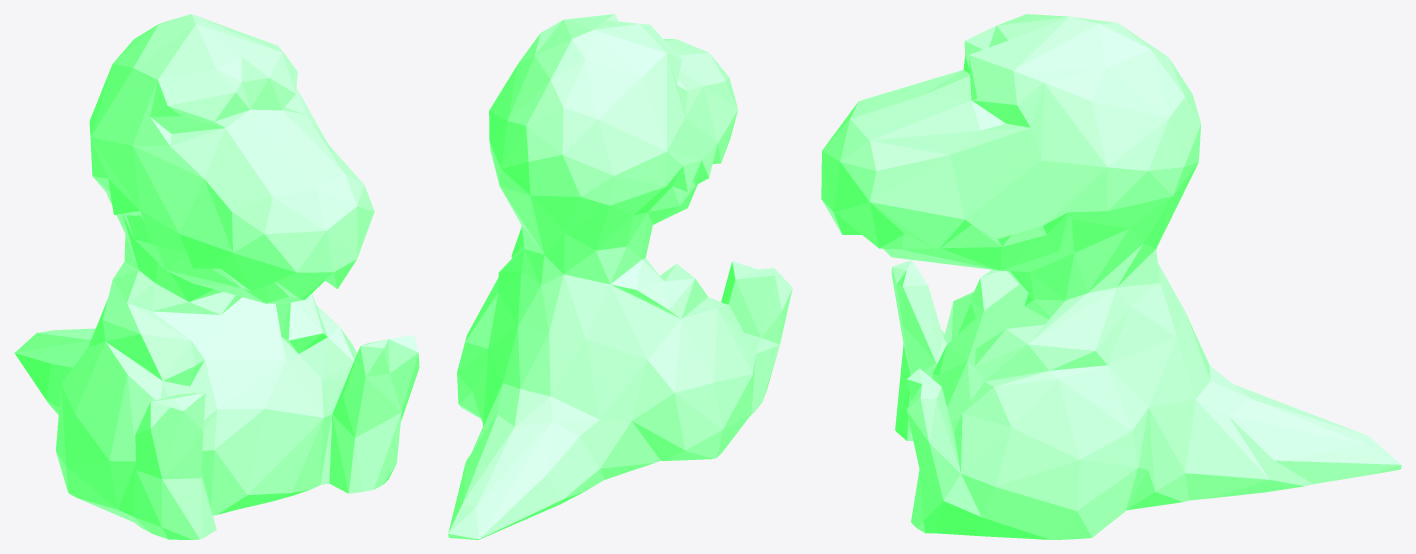
The model's file is dino.glb.
3 views of the same model, side by side, from view 1: azimuth 30°, elevation 25°; view 2: azimuth 150°, elevation 25°; view 3: azimuth 270°, elevation 25° (orthographic). The views are drawn at different scales.
Parts seen in each view (by area): view 1: dino_blender; view 2: dino_blender; view 3: dino_blender.
Part boxes in pixels (x1,y1,x2,y2): dino_blender: (14,14,419,539); dino_blender: (448,14,792,539); dino_blender: (821,14,1401,539).
Bounding box in the file's own units: 41.52 × 59.23 × 68.66.
